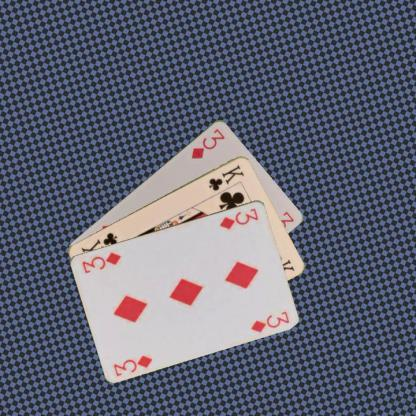3d: (188, 125, 226, 160), (218, 205, 260, 231), (111, 352, 154, 377)
Kc: (206, 162, 246, 192)
